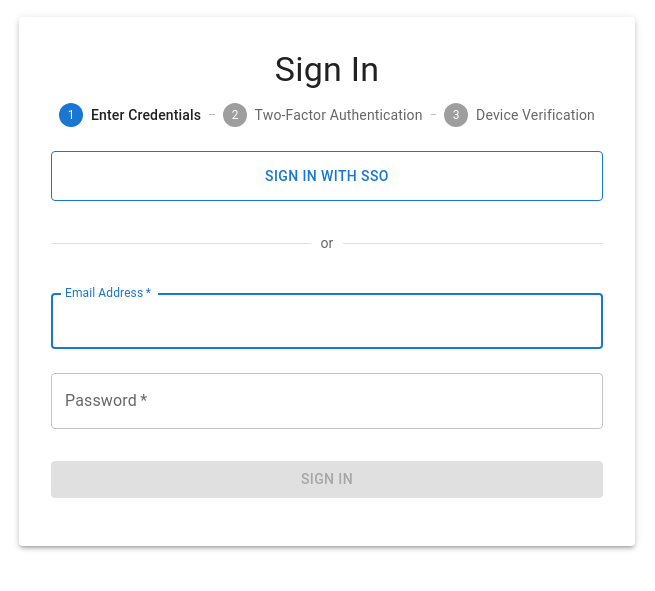
Login Component › Form Validation › validates empty password field
This screenshot has width=655, height=591.
Type "test@example.com" into the field labelled "Email Address *".
click(327, 321); type("test@example.com")  # box [51,293,603,349]
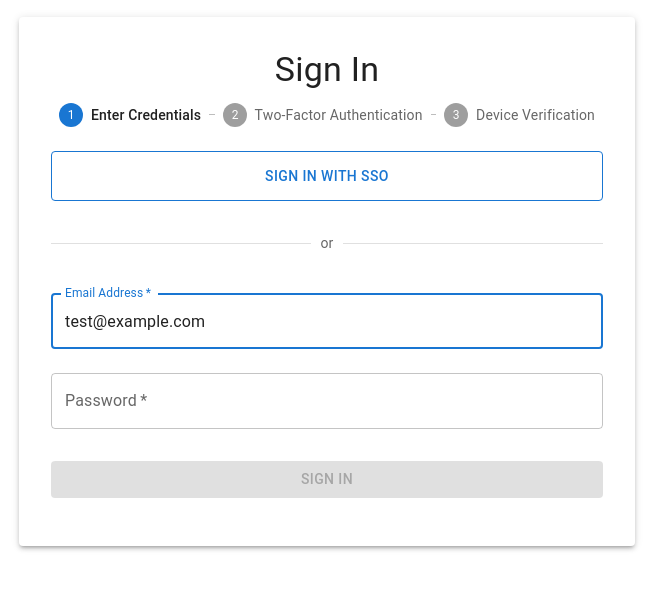
Click the password field labelled "Password *".
click(327, 401)  # box [51,373,603,429]
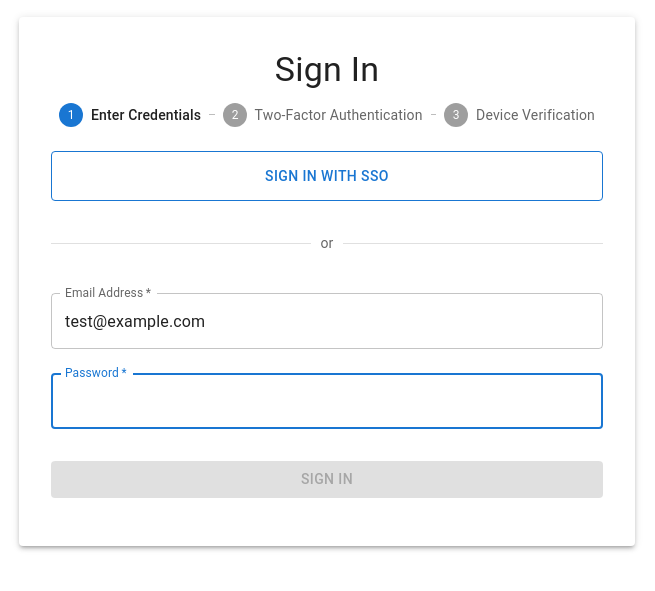
Press Tab
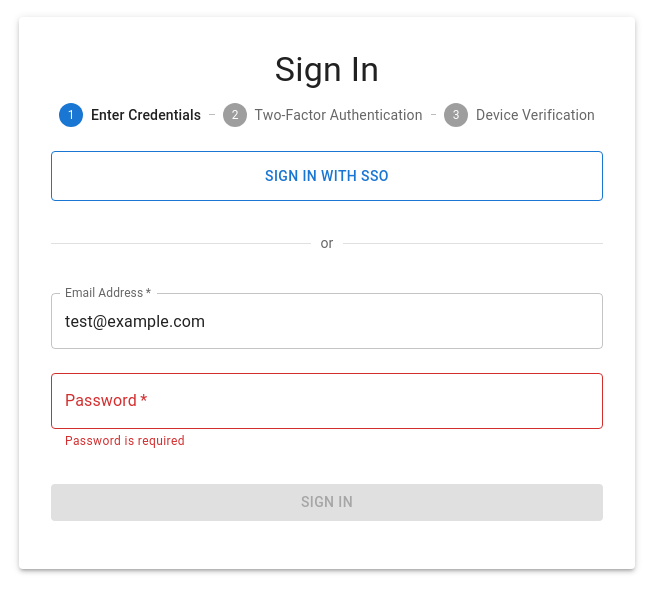
Result: the text "Password is required" is shown at [65,434,185,448]
